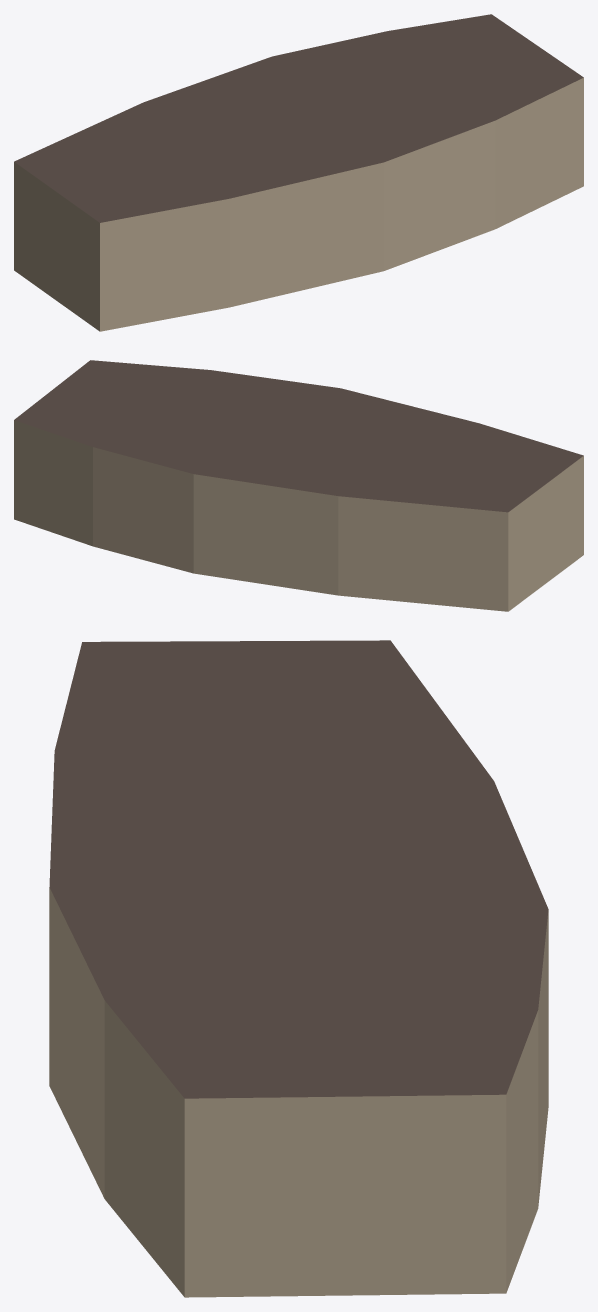
3 renders of one model, top to bottom at view 1: azimuth 30°, elevation 25°; view 2: azimuth 150°, elevation 25°; view 3: azimuth 270°, elevation 25°, orthographic. The views are drawn at different scales.
Parts seen in each view (by area): view 1: HP-w350277185; view 2: HP-w350277185; view 3: HP-w350277185.
Boxes of the visible parts, box(x1,y1,x2,y2) form: HP-w350277185: box(14, 14, 583, 331); HP-w350277185: box(14, 360, 583, 611); HP-w350277185: box(49, 640, 548, 1297).
Size of the model in its own units: 44.47 by 9 by 20.47.
